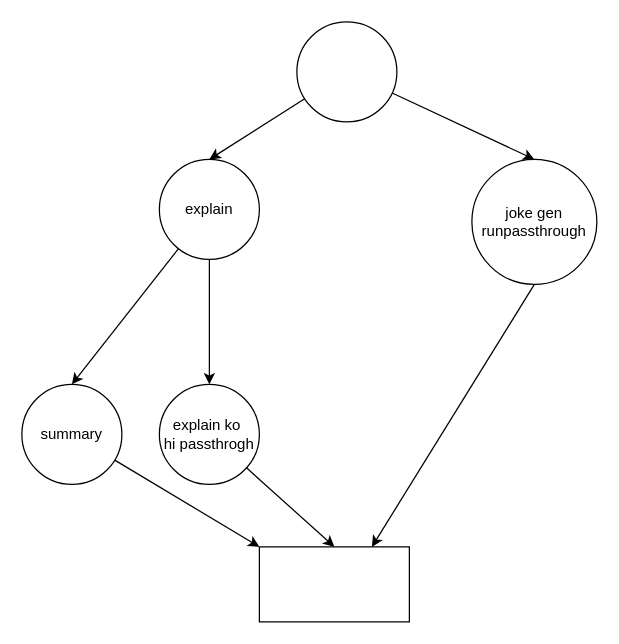
The diagram is 619 pixels wide and 644 high, and some of its shapes have lost their labels. The shapes that lost their labels are listed below. From the top down, each one's box as (x1, y1, x2, y2) in pixels, then its label:
(296, 21, 397, 122): joke gen
(258, 546, 409, 622): so ye teeno as out chaoye
